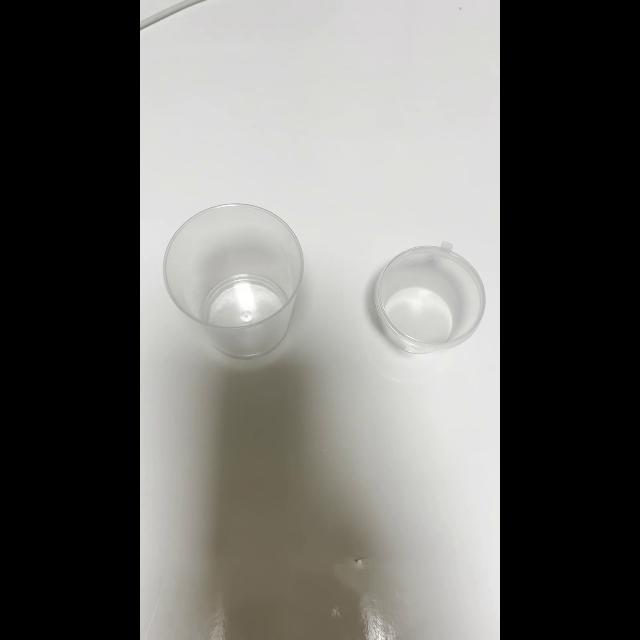clean: (164, 205, 304, 357), (374, 244, 486, 352)
